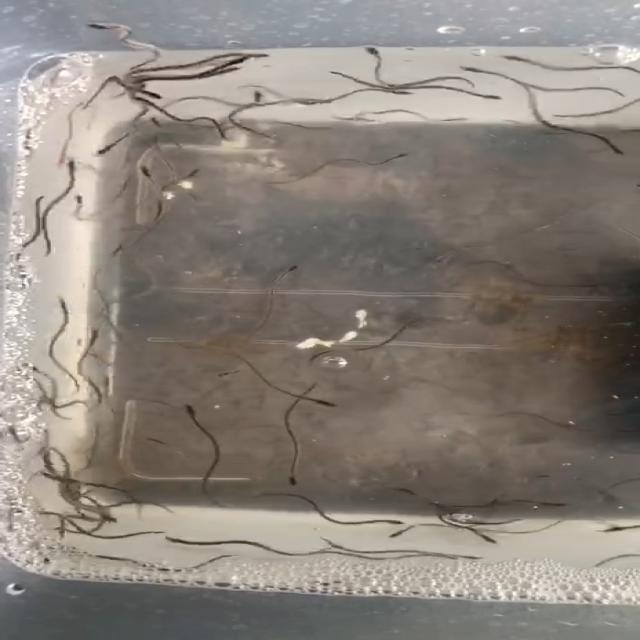inactive_glass_eel: (302, 342, 345, 364), (210, 63, 262, 80), (353, 39, 397, 58), (48, 144, 86, 166), (14, 135, 45, 161), (75, 324, 103, 352), (447, 62, 502, 76), (362, 512, 410, 528), (130, 161, 162, 184), (384, 150, 424, 168), (13, 358, 49, 378), (145, 111, 179, 131), (378, 83, 415, 101), (92, 504, 124, 524), (246, 88, 277, 108), (216, 54, 260, 68), (122, 85, 166, 99), (233, 48, 280, 61), (175, 166, 204, 187), (59, 191, 88, 212), (382, 522, 425, 536), (91, 138, 121, 158), (155, 534, 194, 549), (316, 396, 348, 413), (88, 20, 136, 31), (596, 523, 640, 535), (429, 247, 455, 267), (504, 51, 538, 66), (51, 295, 73, 317), (475, 90, 505, 106), (288, 466, 310, 487), (473, 532, 506, 546), (105, 242, 132, 259), (530, 499, 570, 510), (606, 134, 624, 158), (59, 159, 80, 179), (178, 400, 198, 420), (280, 264, 308, 278), (213, 369, 237, 380)
